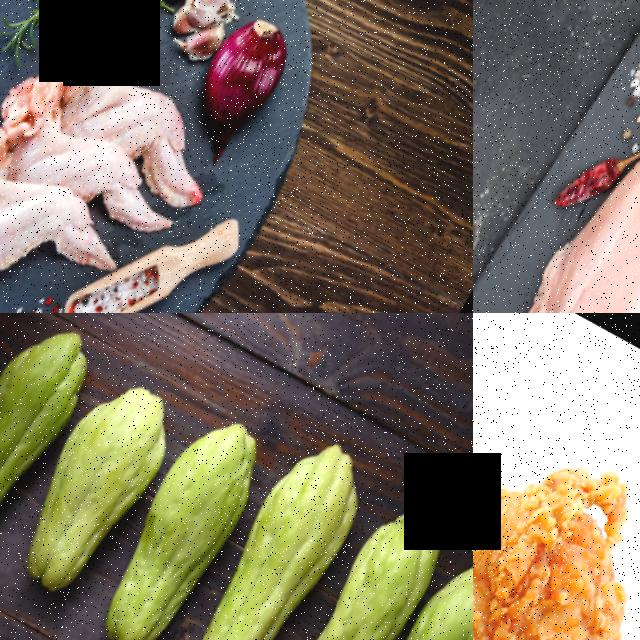chayote: (0, 353, 205, 632), (161, 424, 389, 640), (77, 402, 283, 640), (242, 480, 473, 640), (0, 313, 123, 587), (340, 531, 473, 640)
chicken breast: (473, 46, 640, 313)
chicken wing: (33, 31, 243, 217), (0, 125, 135, 313)
onion: (185, 4, 310, 142)
